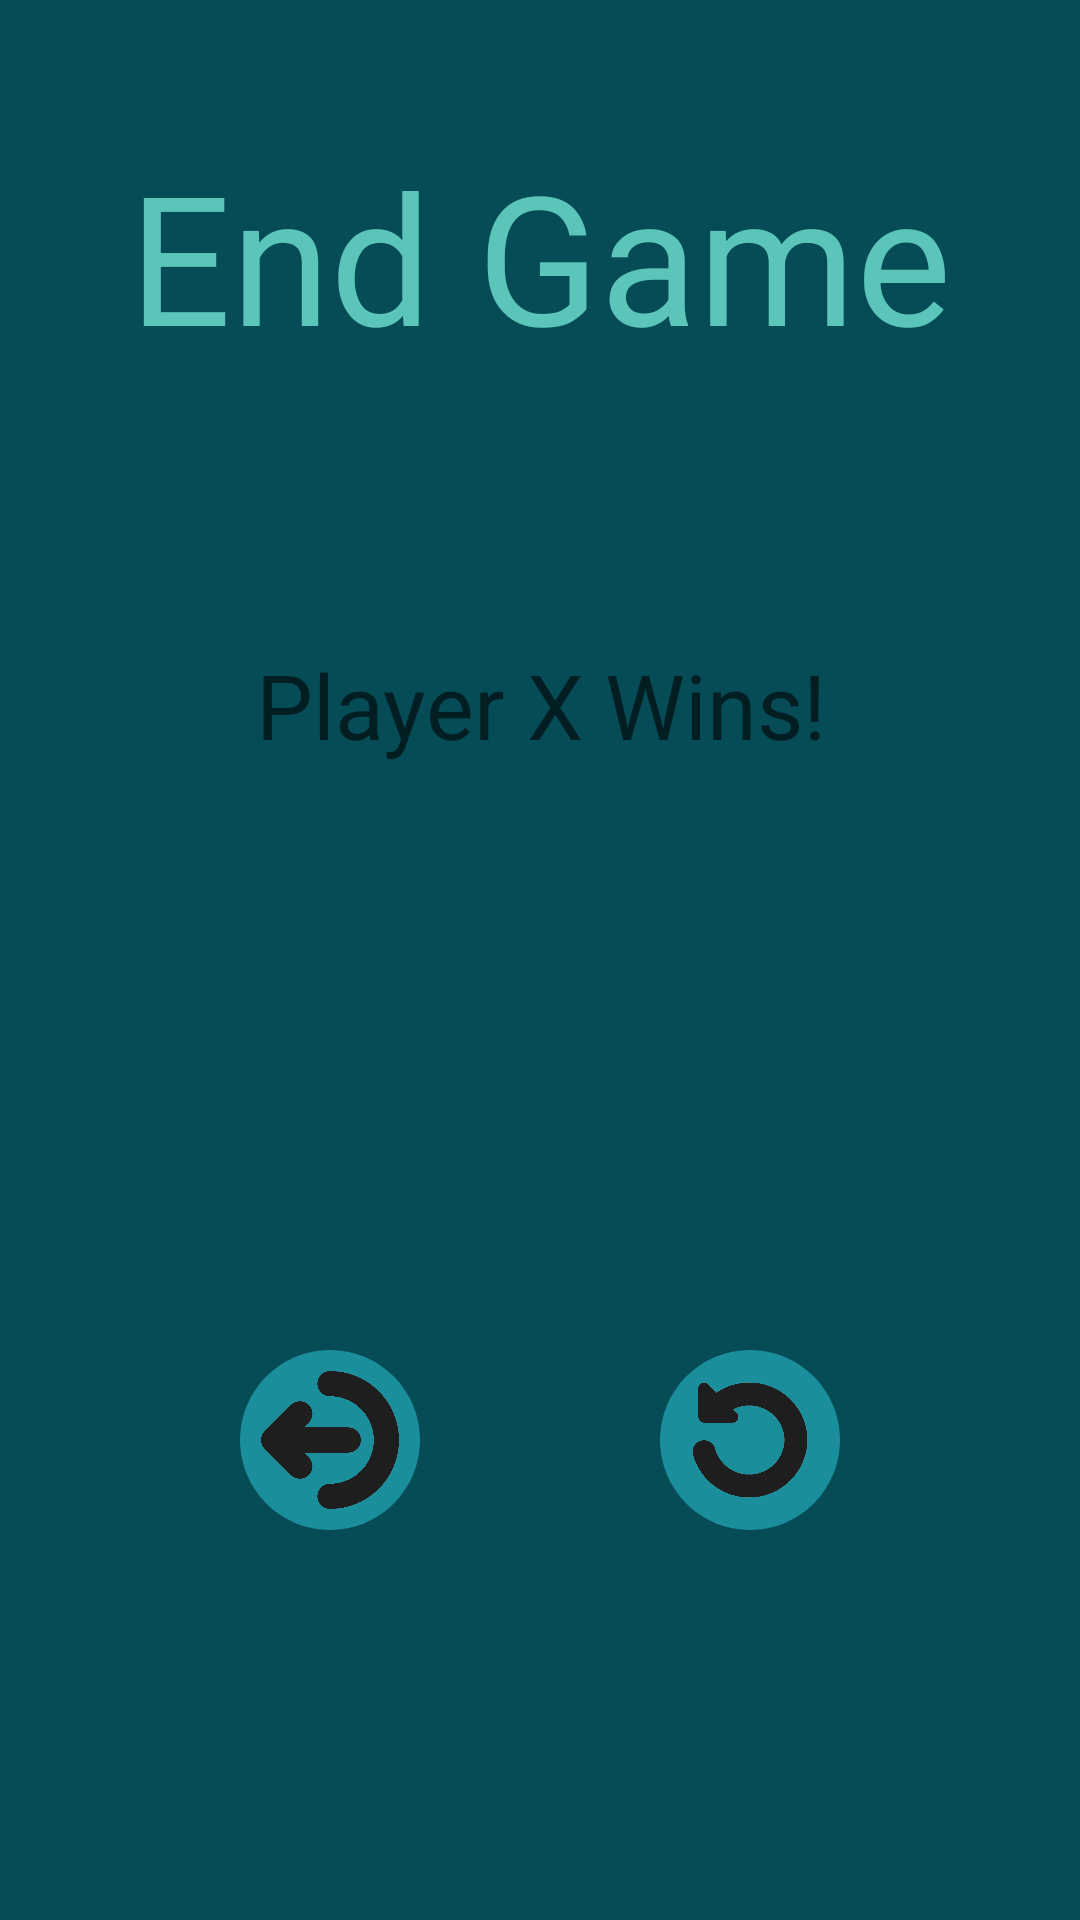

Where to tap for icons on this 1080x1920 app screen, as (x=x, y=y):
Exit: (x=330, y=1440)
New Game: (x=750, y=1440)
